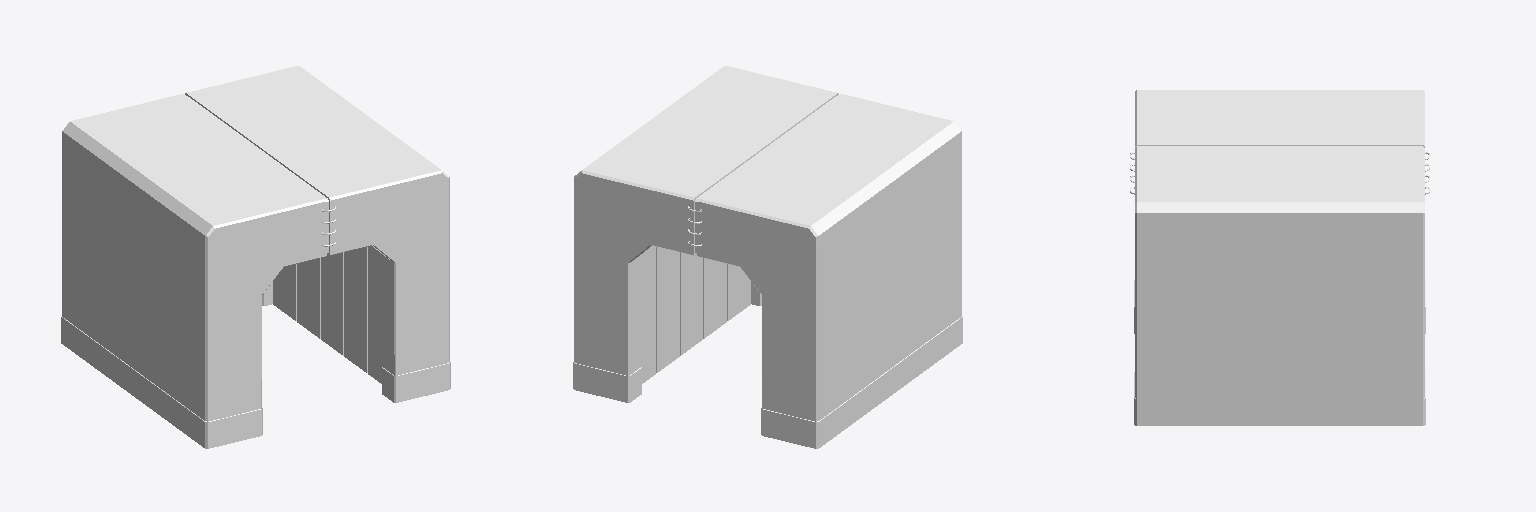
Rendered from tunel.obj.
The picture shows the model from 3 angles: view 1: azimuth 30°, elevation 25°; view 2: azimuth 150°, elevation 25°; view 3: azimuth 270°, elevation 25°; orthographic projection.
Parts seen in each view (by area): view 1: SM_TunnelSimple; view 2: SM_TunnelSimple; view 3: SM_TunnelSimple.
Boxes of the visible parts, box(x1,y1,x2,y2) form: SM_TunnelSimple: box(61, 66, 450, 448); SM_TunnelSimple: box(573, 66, 962, 448); SM_TunnelSimple: box(1130, 90, 1429, 425).
Size of the model in its own units: 5.31 by 4.55 by 5.62.